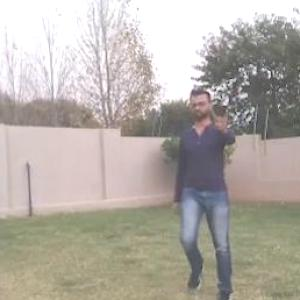takeoff-hand: (208, 100, 240, 138)
